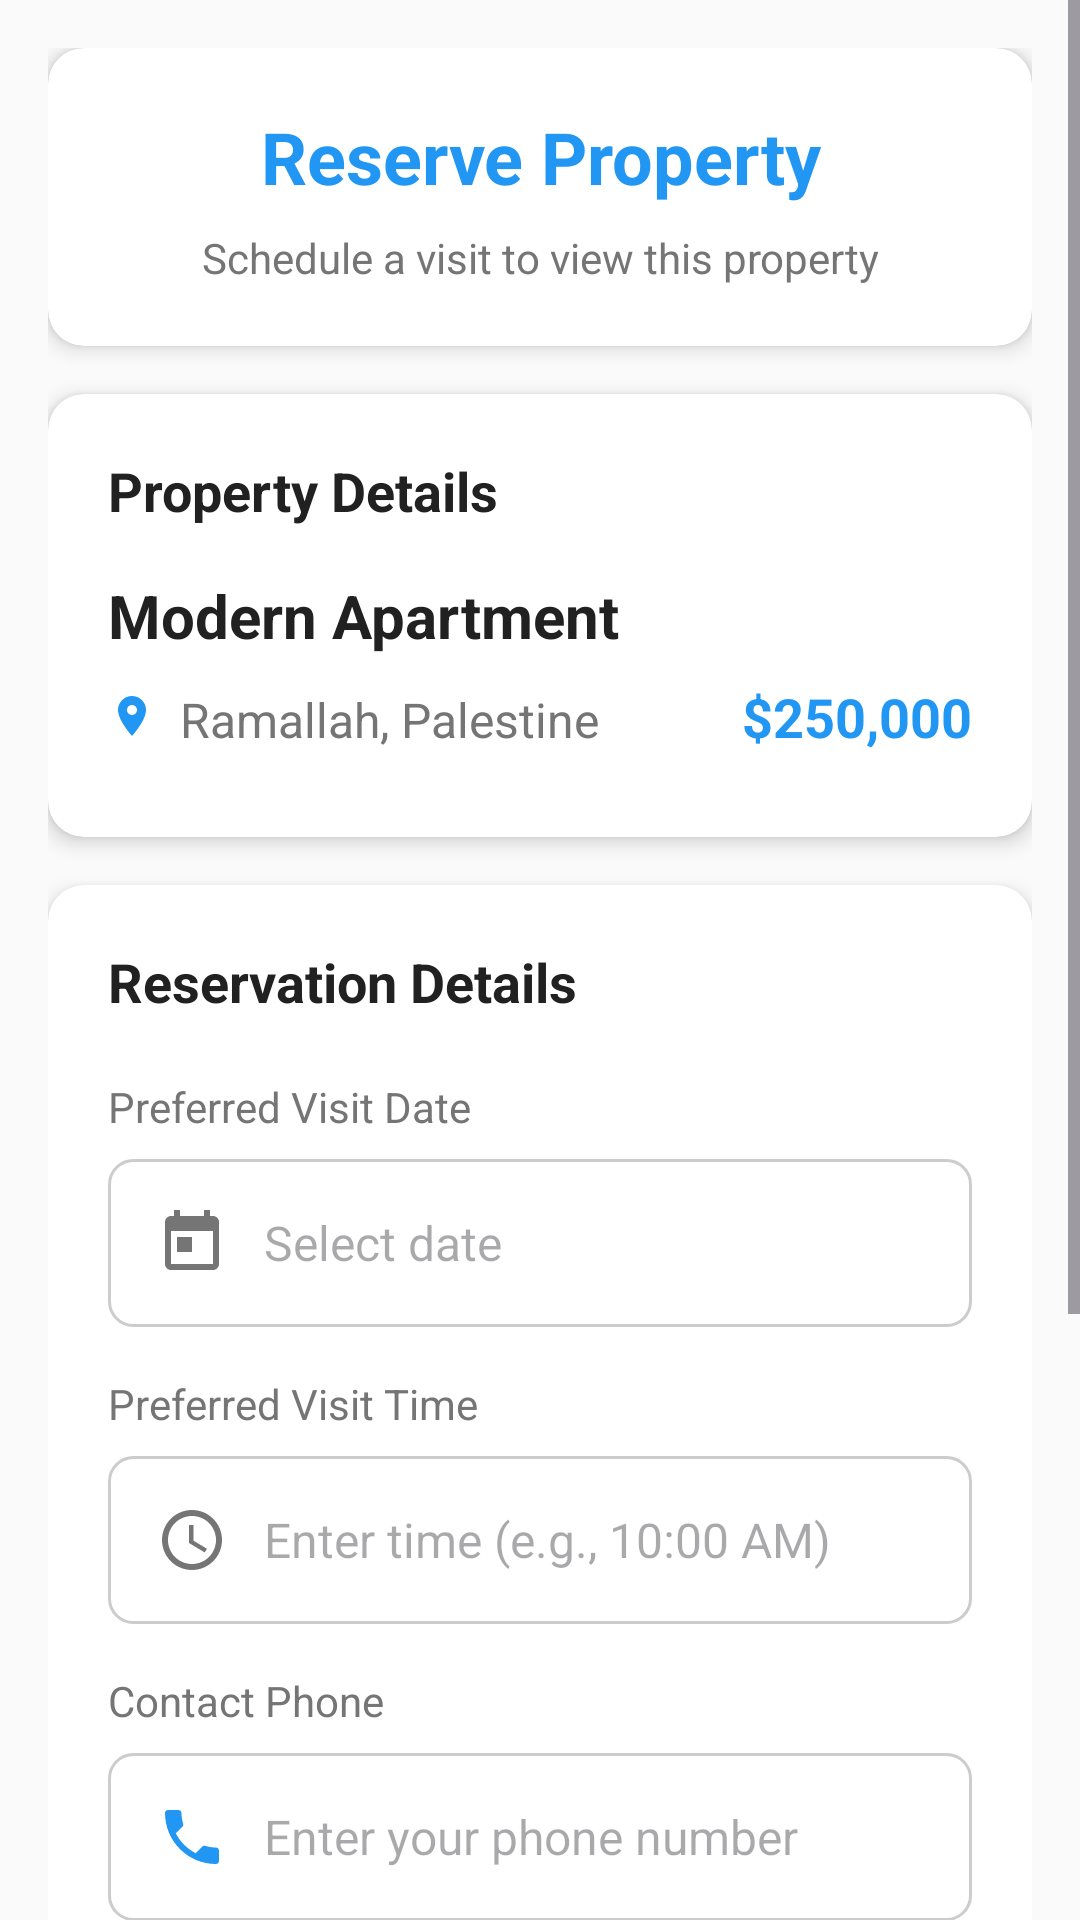

Named icons in this screenshot (1080*1920) and their centers, [x,y]:
location: [132,716]
